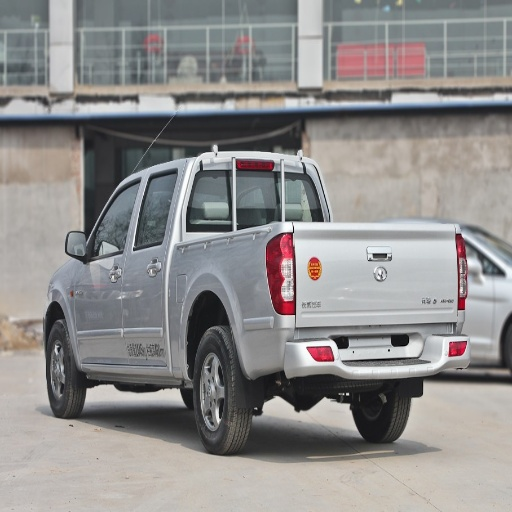back_left_door: (125, 177, 172, 341)
trunk: (146, 225, 460, 377)
